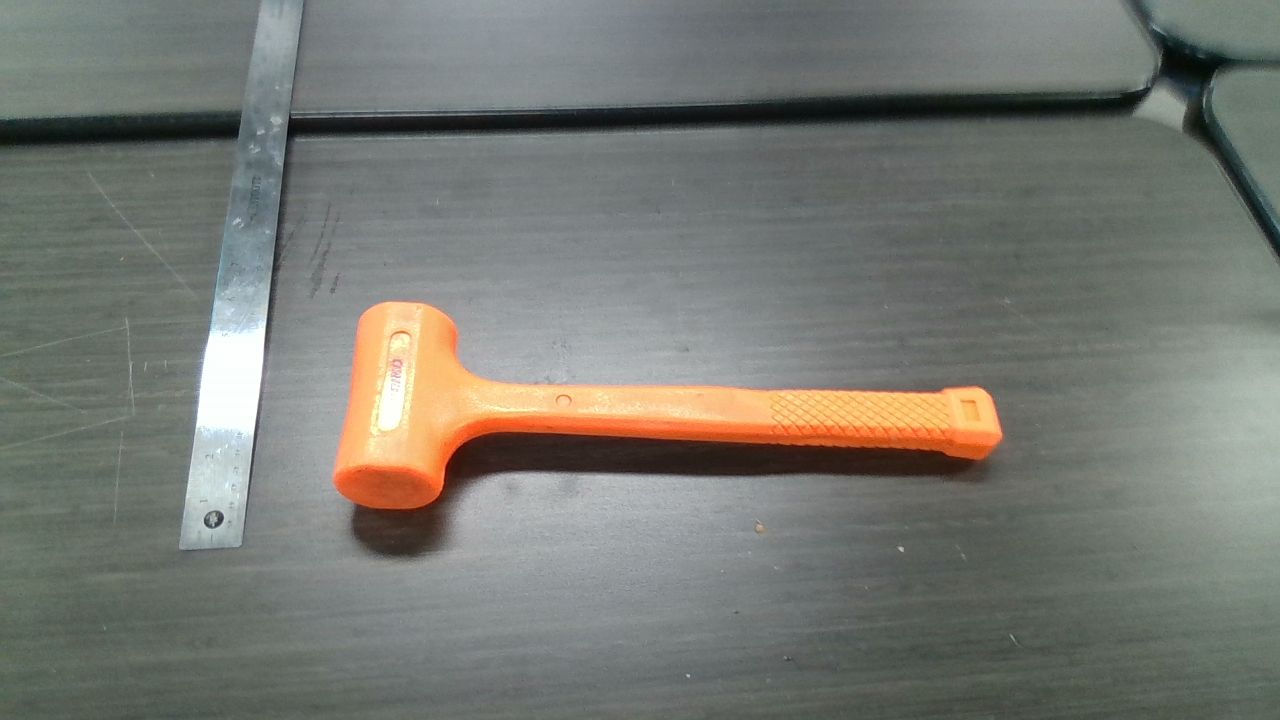Orange Hammer: (344, 299, 1002, 508)
